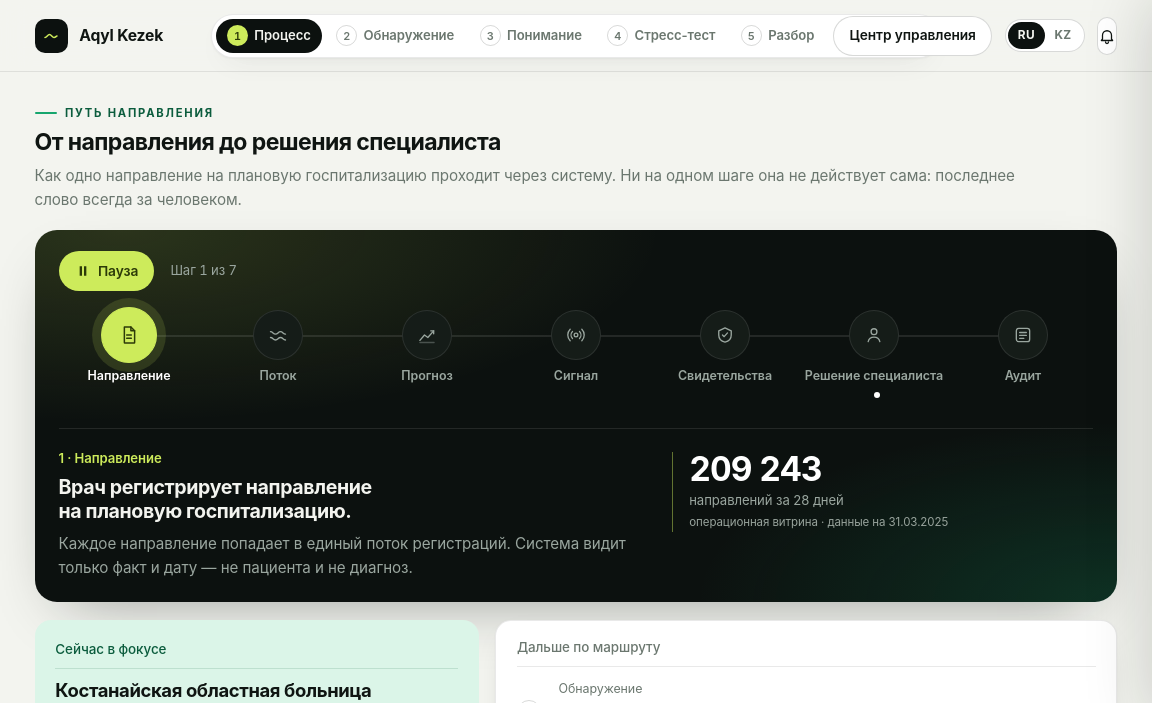
Guided decision journey › /demo opens the process simulation and steps to the specialist's decision
expect the heading "От направления до решения специалиста" is shown: met, box 34,128 -> 501,156
expect the heading "Врач регистрирует направление на плановую госпитализацию." is shown: met, box 58,475 -> 372,523
Click the button "Решение специалиста" at coordinates (874, 357), box 804,310 -> 944,404
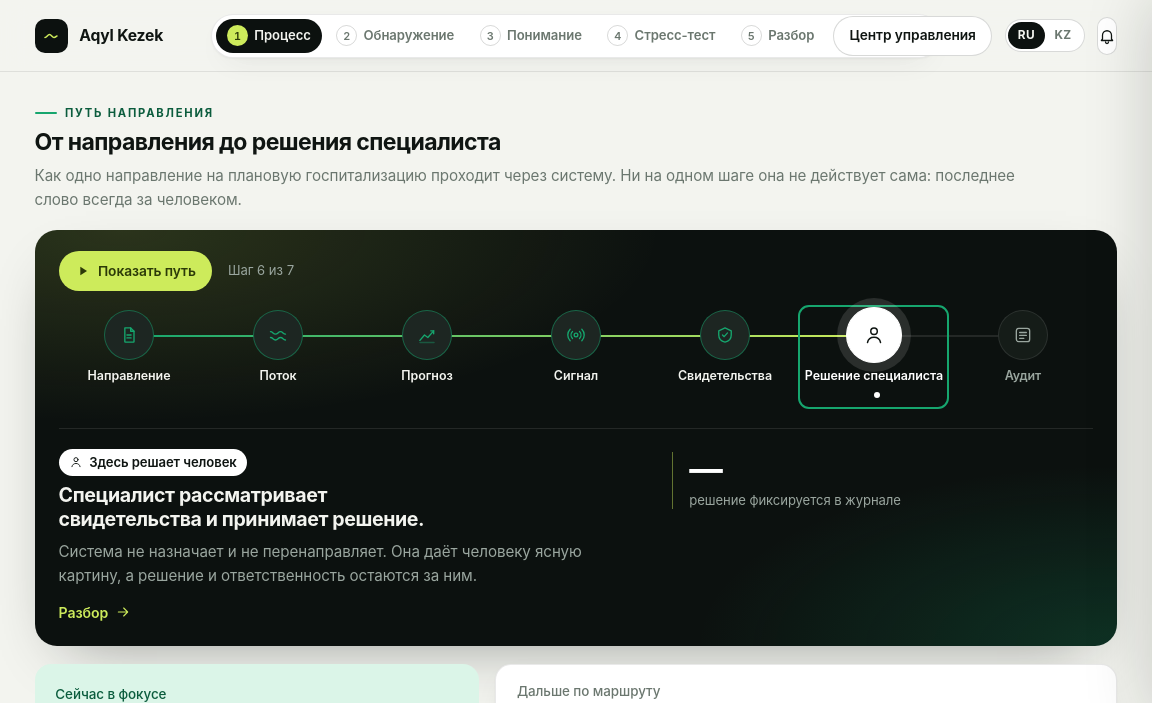
expect the text "Здесь решает человек" is shown: met, box 58,449 -> 247,476
expect the heading "Специалист рассматривает свидетельства и принимает решение." is shown: met, box 58,483 -> 424,531
Click the button "Аудит" at coordinates (1023, 357), box 952,310 -> 1094,404
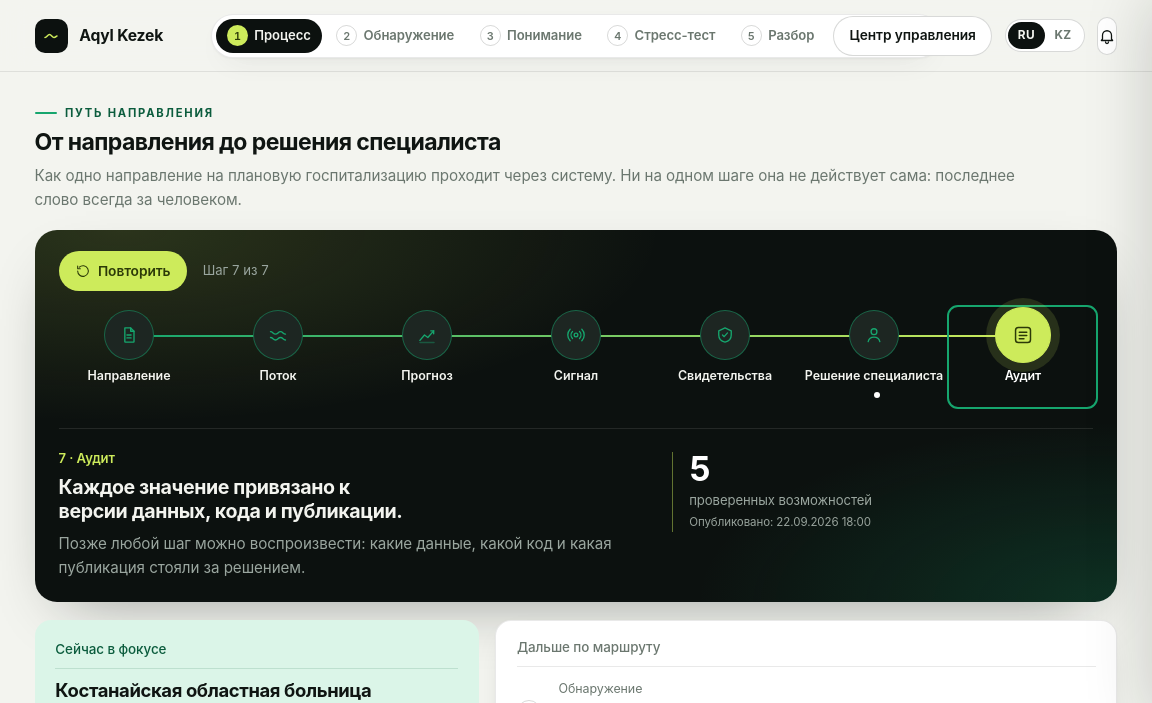
expect the heading "Каждое значение привязано к версии данных, кода и публикации." is shown: met, box 58,475 -> 402,523
expect the text "5" in the row of "7 · Аудит" is shown: met, box 689,448 -> 710,489
expect the button "Повторить" is shown: met, box 58,251 -> 187,291
